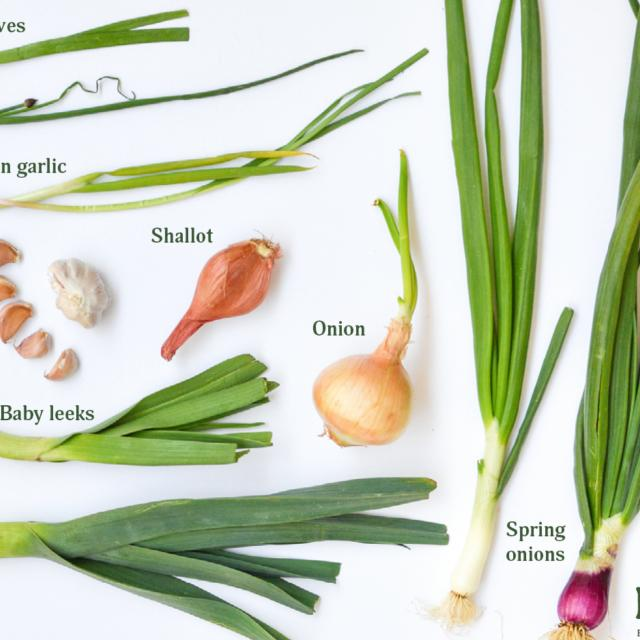green_onion: (430, 0, 572, 628), (548, 0, 640, 640)
onion: (314, 314, 412, 446)
